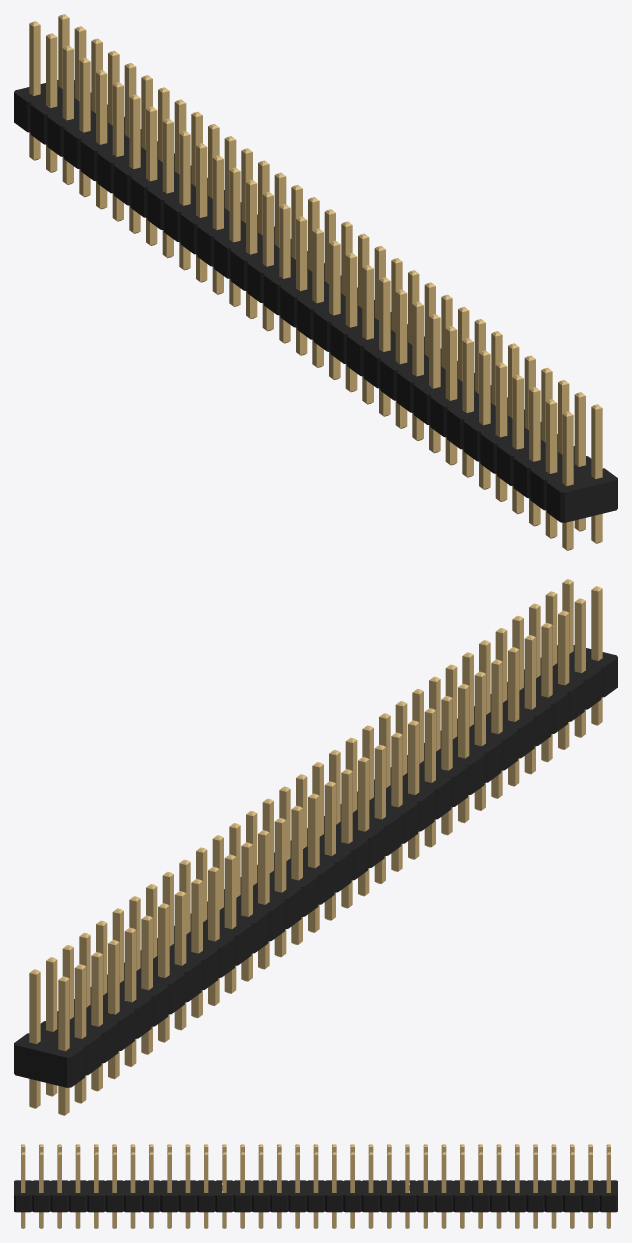
The model's file is kc-pinheader_2x33_p2.54mm_vertical.glb.
3 renders of one model, top to bottom at view 1: azimuth 30°, elevation 25°; view 2: azimuth 150°, elevation 25°; view 3: azimuth 270°, elevation 25°, orthographic. The views are drawn at different scales.
Parts seen in each view (by area): view 1: 0.75_0.5_0.25_0.9, 0_0_0_0; view 2: 0.75_0.5_0.25_0.9, 0_0_0_0; view 3: 0_0_0_0, 0.75_0.5_0.25_0.9.
Boxes of the visible parts, x1,y1,x2,y2 form: 0.75_0.5_0.25_0.9: (29, 14, 602, 550); 0_0_0_0: (14, 80, 617, 522); 0.75_0.5_0.25_0.9: (29, 579, 602, 1115); 0_0_0_0: (14, 645, 617, 1087); 0_0_0_0: (14, 1180, 617, 1212); 0.75_0.5_0.25_0.9: (21, 1144, 610, 1228).
Bounding box in the file's own units: 0.5075 × 1.15 × 8.38.
